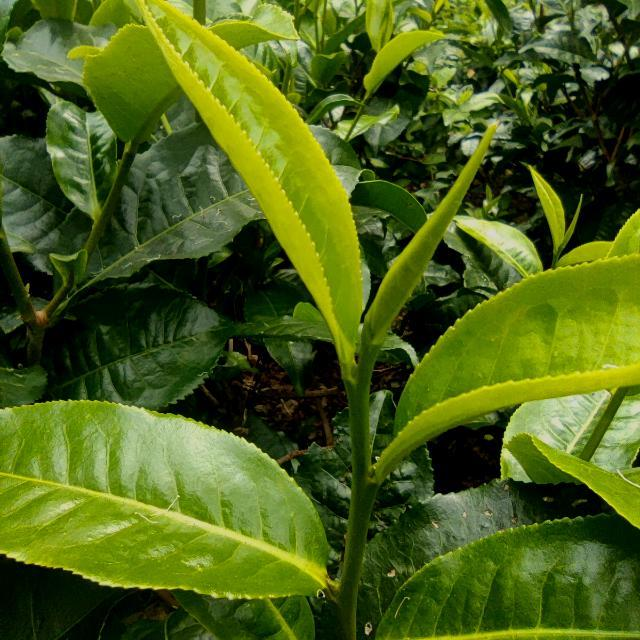Stem: (350, 382, 370, 455)
